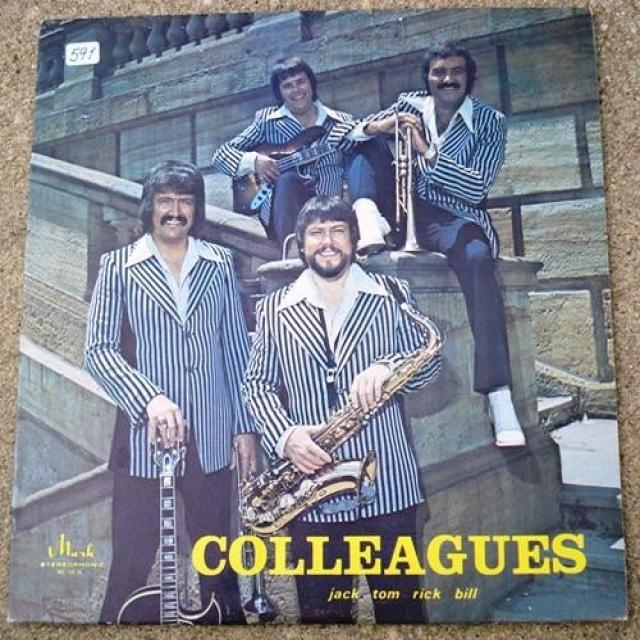guitar: (117, 418, 223, 630)
saxophone: (236, 278, 449, 531)
